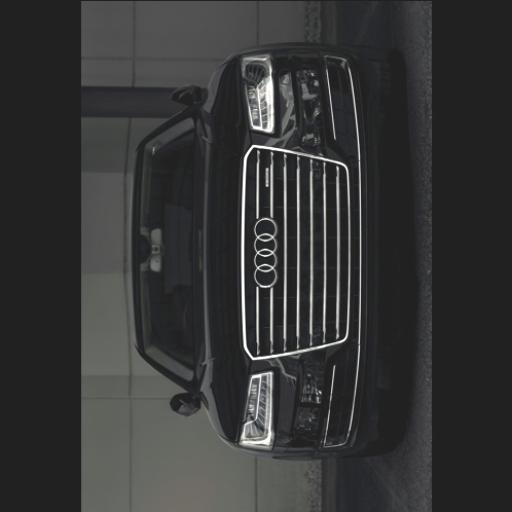sedan: (127, 42, 398, 459)
